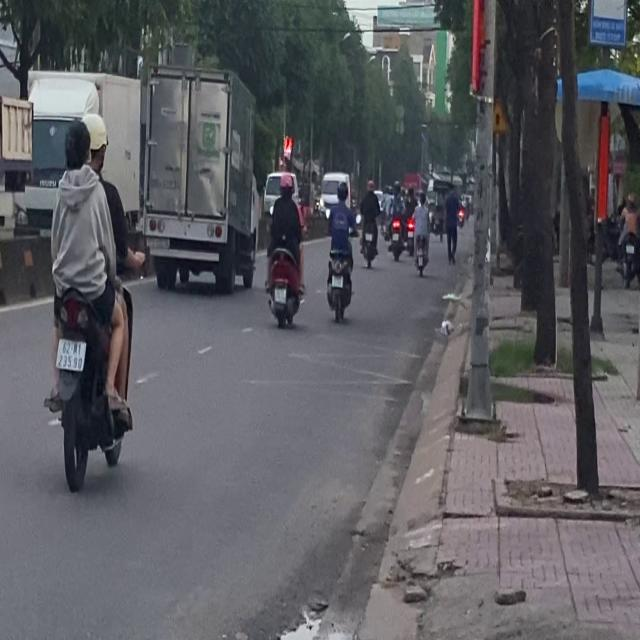helmet: (82, 112, 108, 172)
licenseplate: (41, 110, 138, 489)
motorcyclist: (61, 118, 90, 172)
nohelmet: (57, 339, 85, 369)
